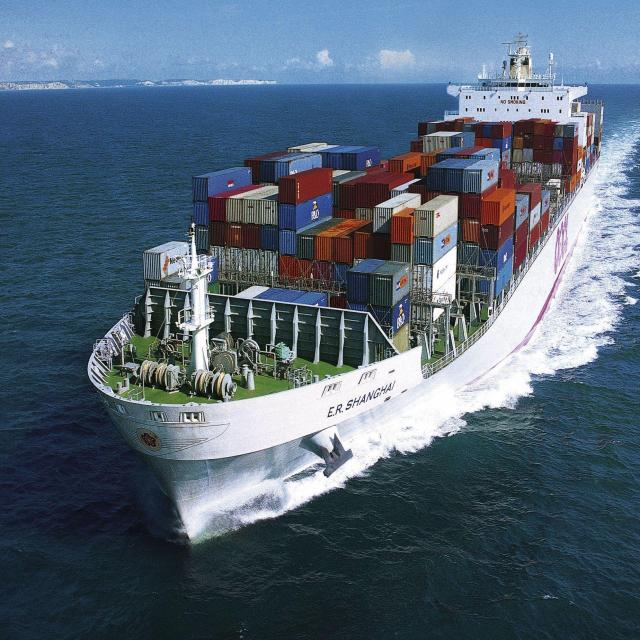cargoship: (66, 25, 614, 532)
